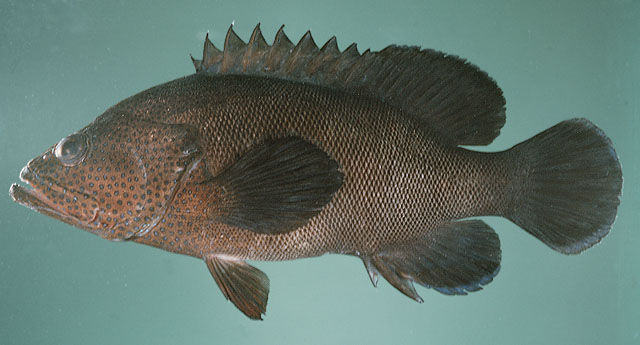fish: (8, 21, 622, 320)
